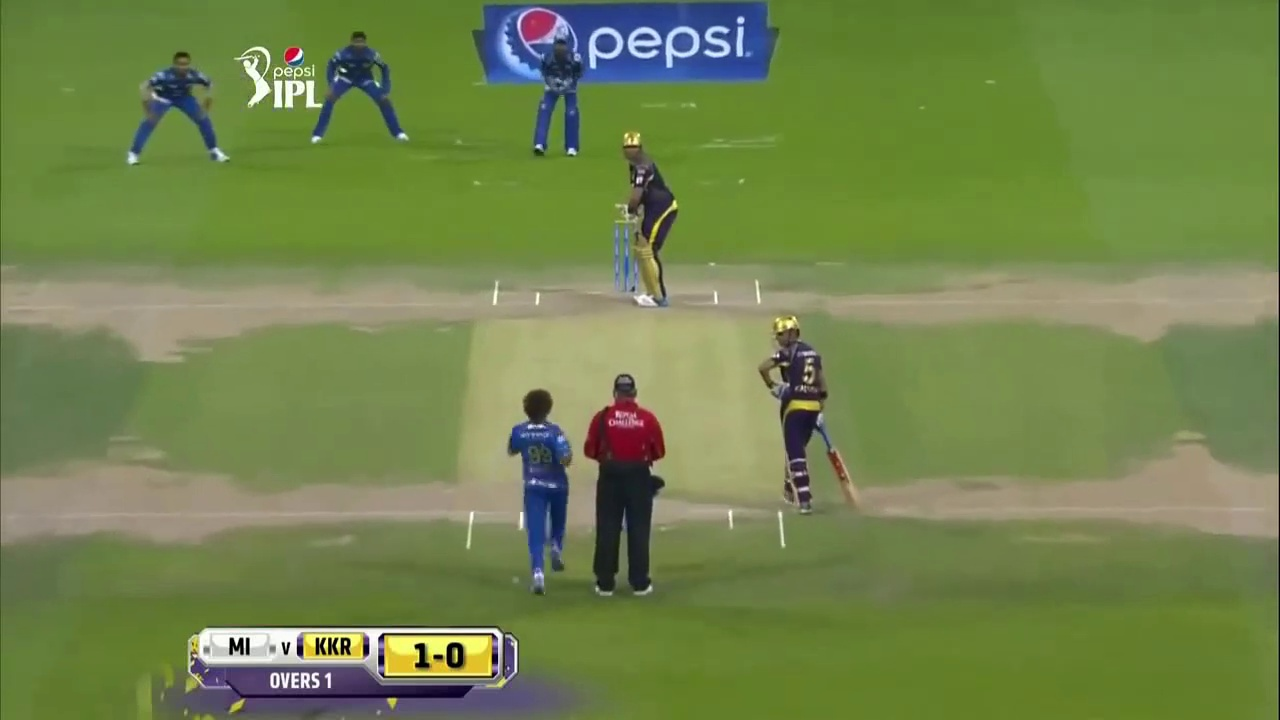bat: (815, 426, 866, 512)
stumps: (613, 220, 631, 292)
